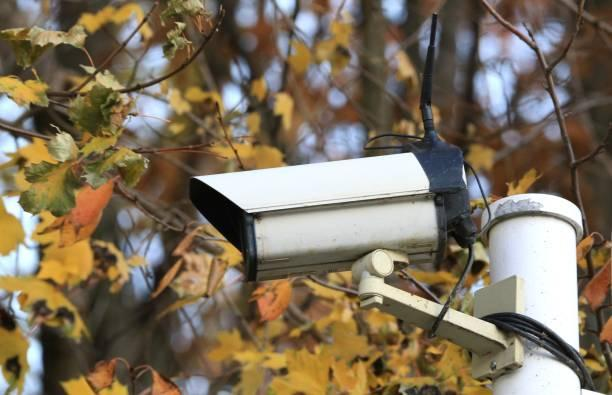camera: (166, 141, 499, 294)
